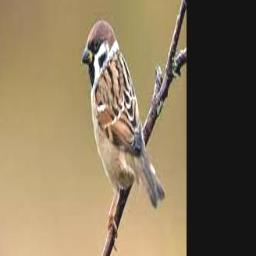Sparrow: (82, 20, 165, 243)
